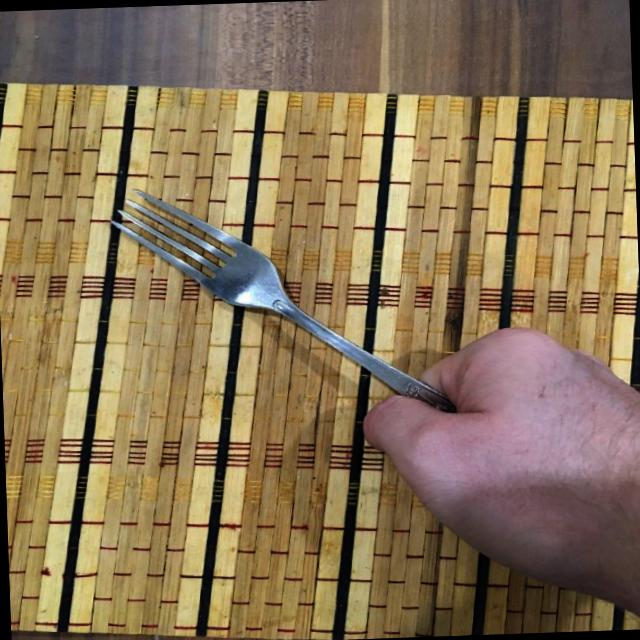fork: (101, 175, 501, 432)
